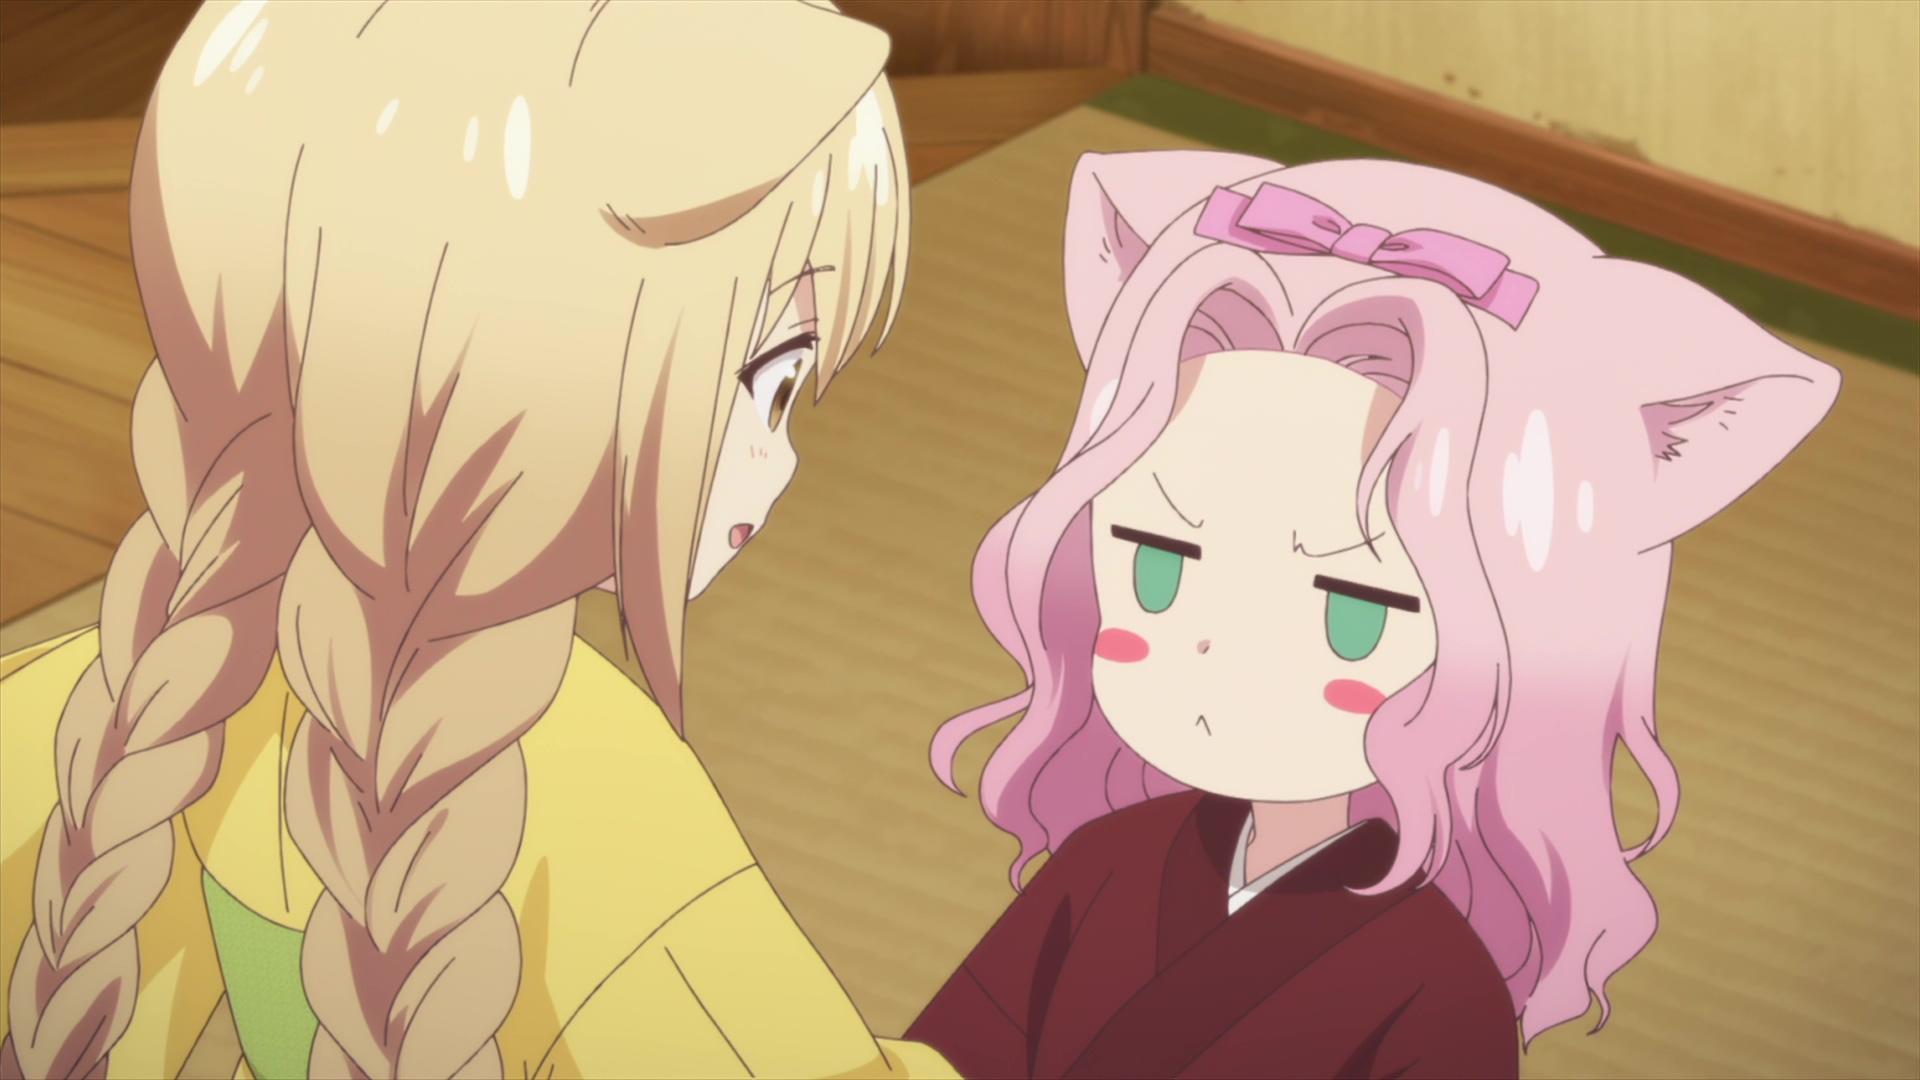柚: (1, 1, 963, 1080)
莲: (899, 150, 1840, 1080)
